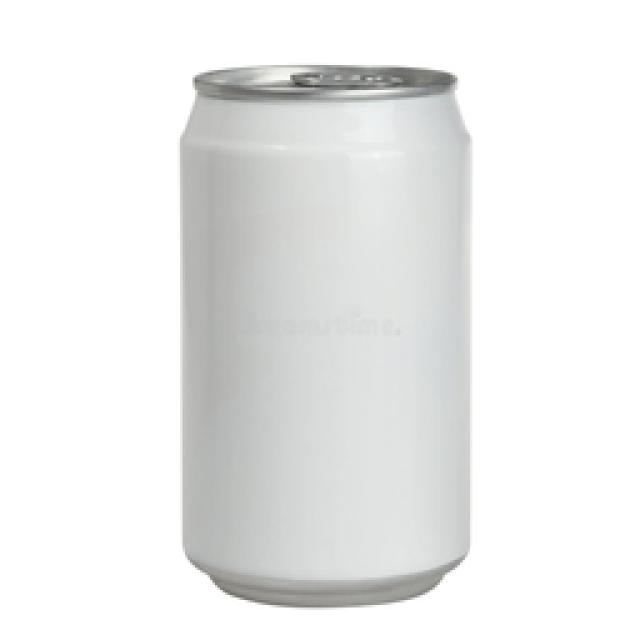aluminum_soda_cans: (178, 60, 475, 608)
